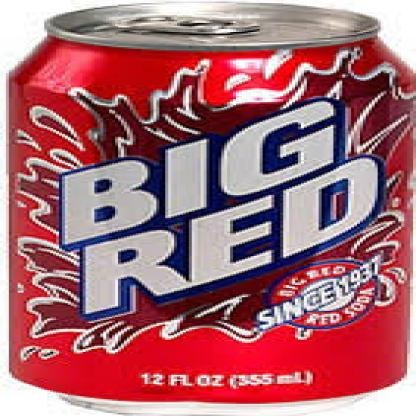trash: (9, 3, 415, 402)
